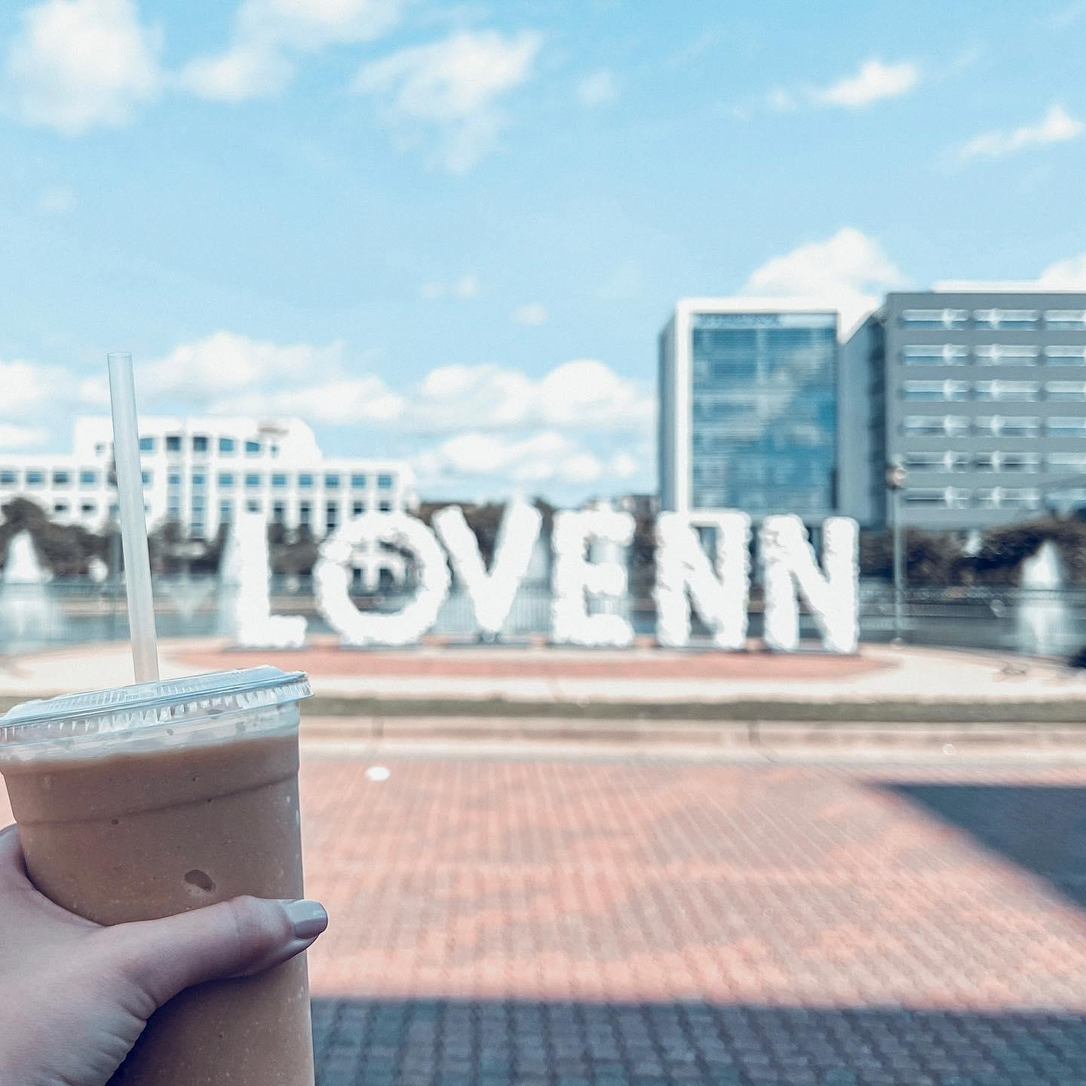cup-disposable: (0, 659, 319, 1084)
